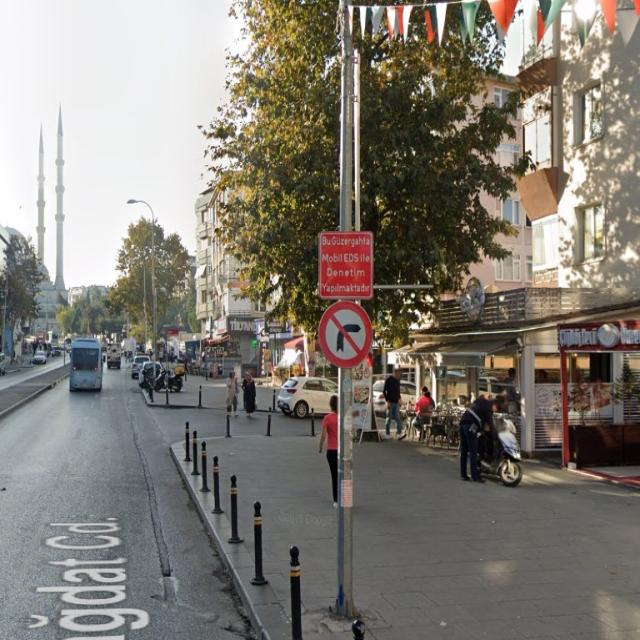sagadonulmez: (317, 301, 371, 366)
